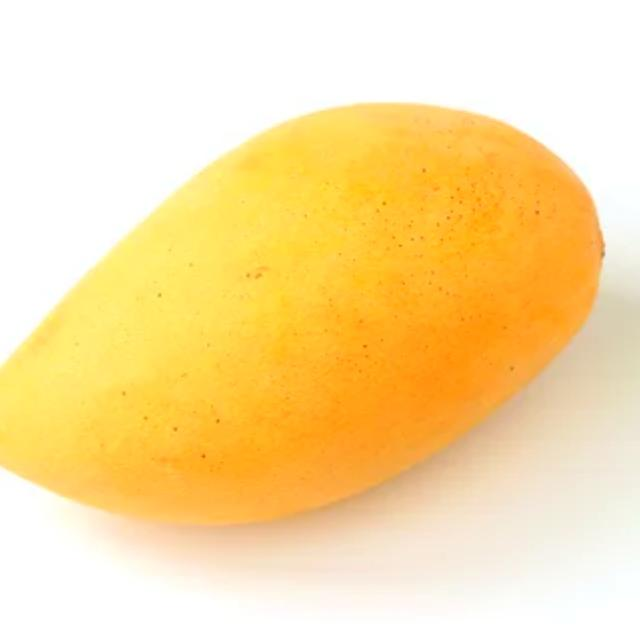mango: (0, 102, 604, 530)
